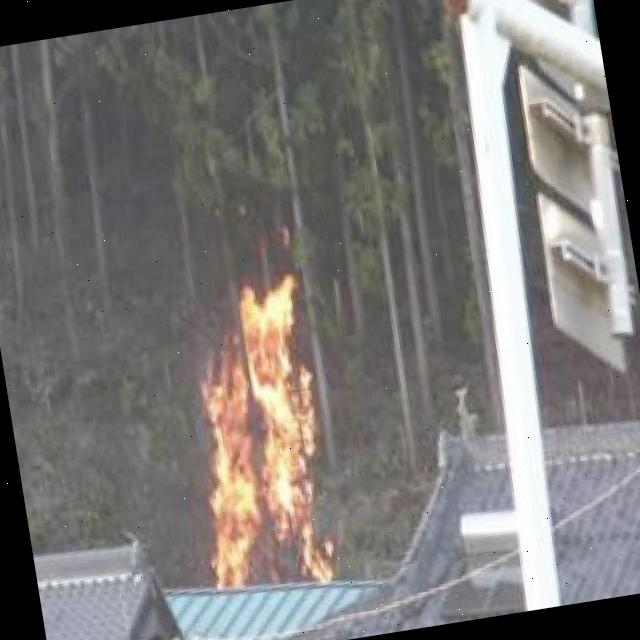fire: (170, 272, 363, 608)
